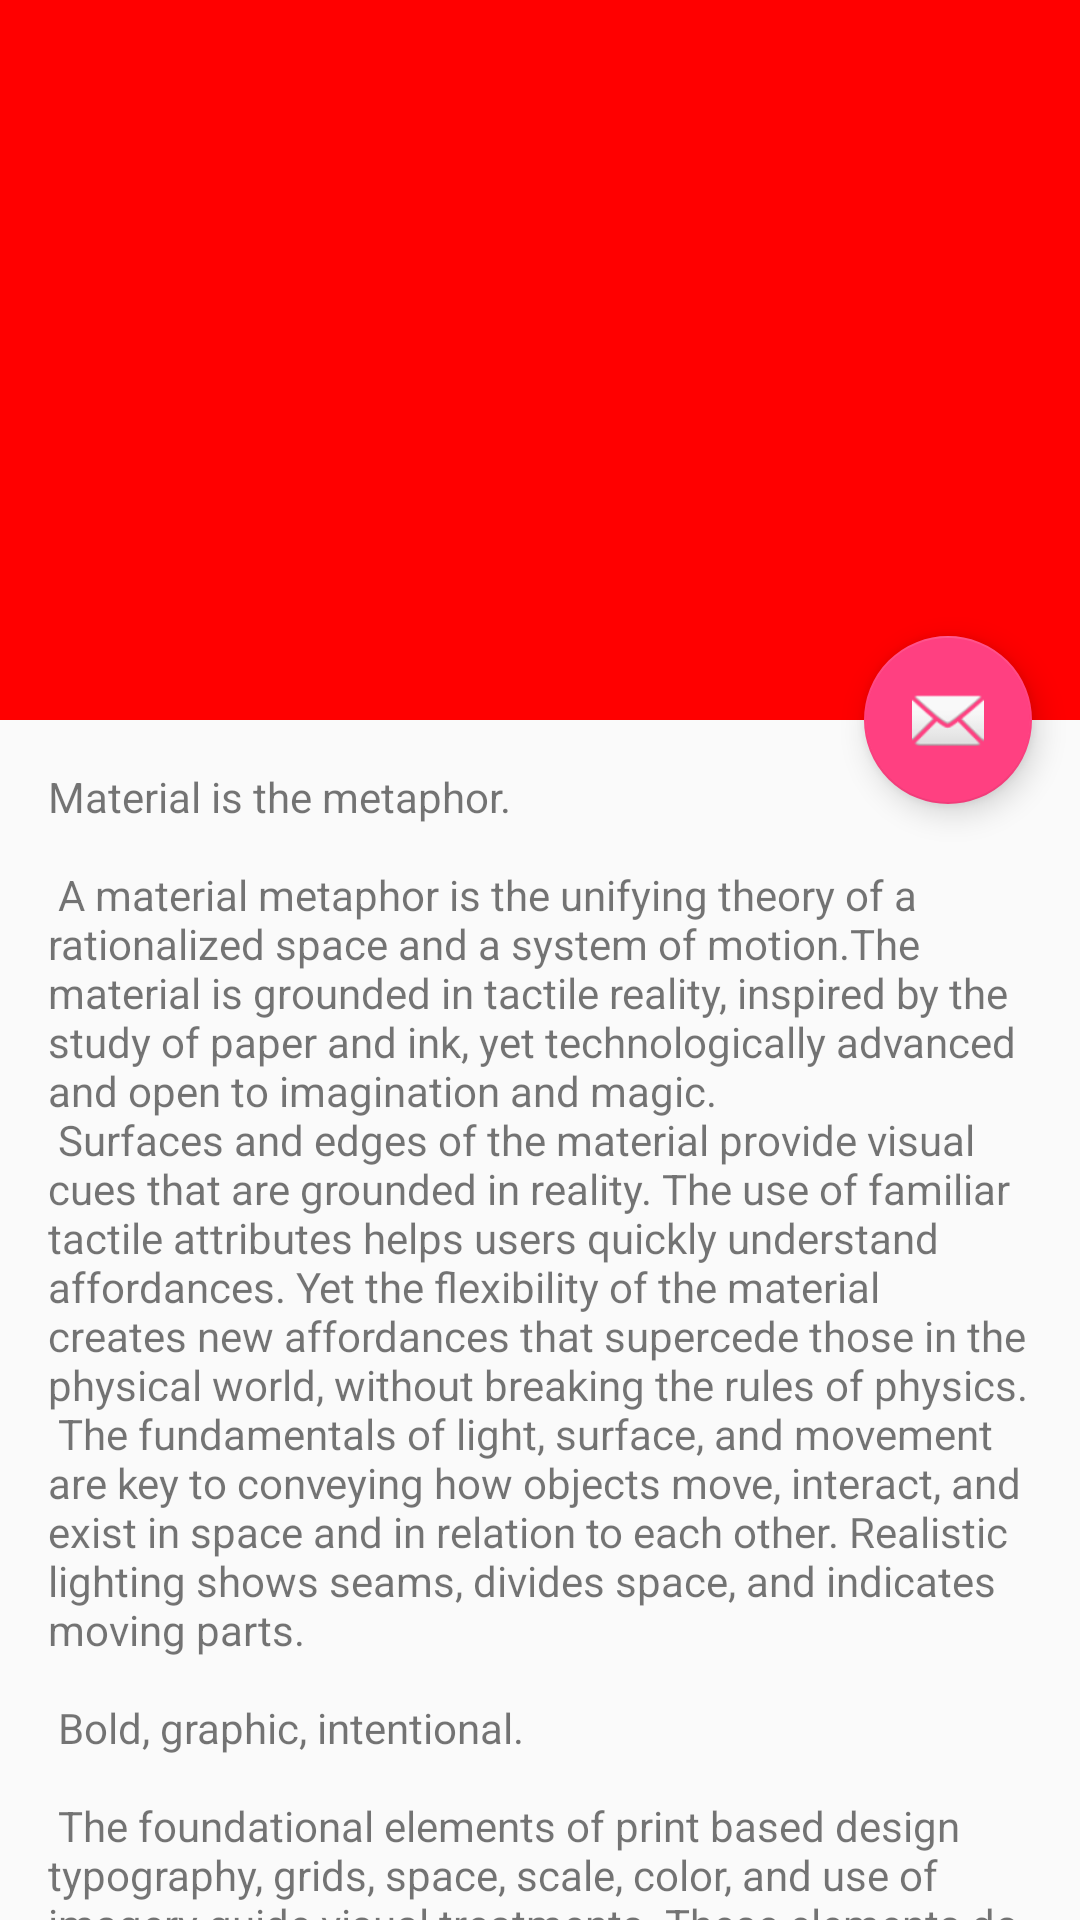

Where to tap for icons on this 1080 × 1920 app screen, as (x,y):
email: (948,720)
